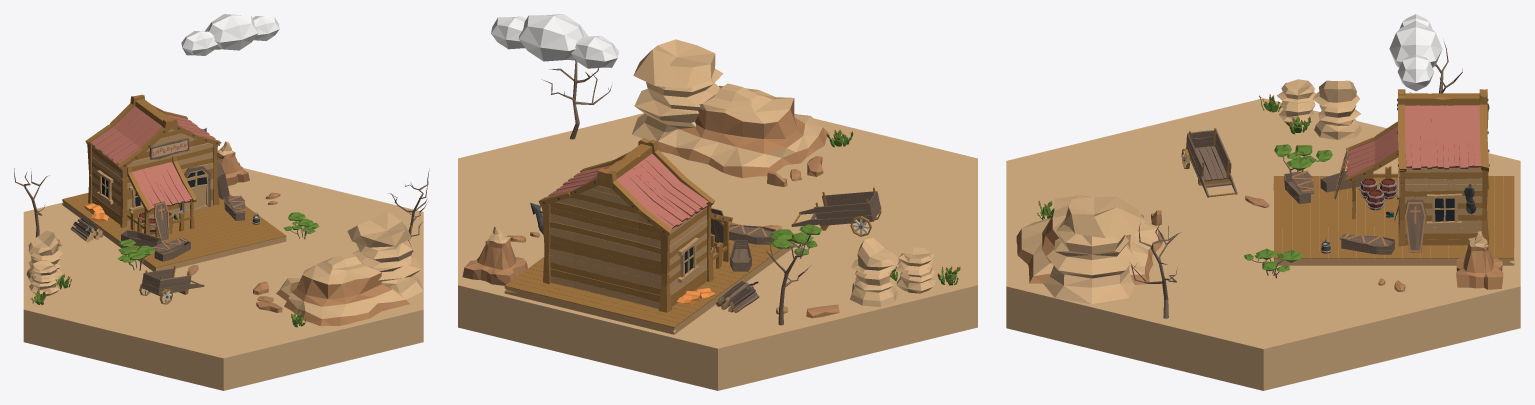
File: Tile_5.fbx
3 views of the same model, side by side, from view 1: azimuth 30°, elevation 25°; view 2: azimuth 150°, elevation 25°; view 3: azimuth 270°, elevation 25° (orthographic). The views are drawn at different scales.
Visible parts, largest first — view 1: Tile_5_Base, Tile_5, Tile_5_Undertaker_Building, Tile_5_Platform, Tile_5_cloud, Tile_5_Cart, Tile_5_Signboard_Undertaker, Tile_5_Logs; view 2: Tile_5_Base, Tile_5, Tile_5_Undertaker_Building, Tile_5_Platform, Tile_5_cloud, Tile_5_Cart, Tile_5_Logs; view 3: Tile_5_Base, Tile_5, Tile_5_Undertaker_Building, Tile_5_Platform, Tile_5_cloud, Tile_5_Cart.
Boxes of the visible parts, x1=… form: Tile_5_Base: x1=23, y1=168, x2=423, y2=390; Tile_5: x1=14, y1=141, x2=429, y2=327; Tile_5_Undertaker_Building: x1=85, y1=94, x2=221, y2=237; Tile_5_Platform: x1=62, y1=192, x2=286, y2=271; Tile_5_cloud: x1=181, y1=14, x2=279, y2=55; Tile_5_Cart: x1=139, y1=265, x2=204, y2=304; Tile_5_Signboard_Undertaker: x1=149, y1=138, x2=189, y2=159; Tile_5_Logs: x1=70, y1=217, x2=103, y2=242; Tile_5_Base: x1=458, y1=113, x2=977, y2=390; Tile_5: x1=462, y1=39, x2=960, y2=325; Tile_5_Undertaker_Building: x1=530, y1=138, x2=732, y2=312; Tile_5_Platform: x1=504, y1=222, x2=795, y2=334; Tile_5_cloud: x1=491, y1=14, x2=618, y2=68; Tile_5_Cart: x1=791, y1=187, x2=881, y2=236; Tile_5_Logs: x1=716, y1=281, x2=759, y2=312; Tile_5_Base: x1=1006, y1=98, x2=1520, y2=390; Tile_5: x1=1016, y1=42, x2=1503, y2=318; Tile_5_Undertaker_Building: x1=1345, y1=89, x2=1489, y2=246; Tile_5_Platform: x1=1273, y1=176, x2=1514, y2=265; Tile_5_cloud: x1=1389, y1=14, x2=1442, y2=91; Tile_5_Cart: x1=1181, y1=128, x2=1237, y2=197.
Bounding box in the file's own units: 2318 × 2007 × 1208.
